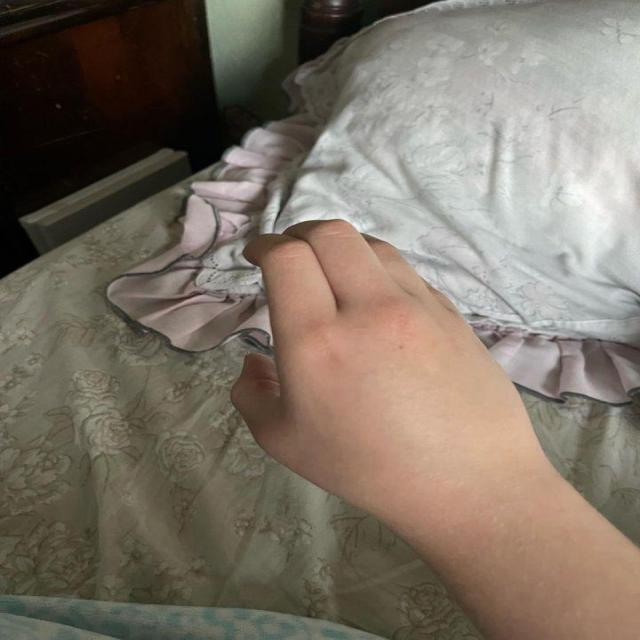C: (209, 214, 539, 518)
